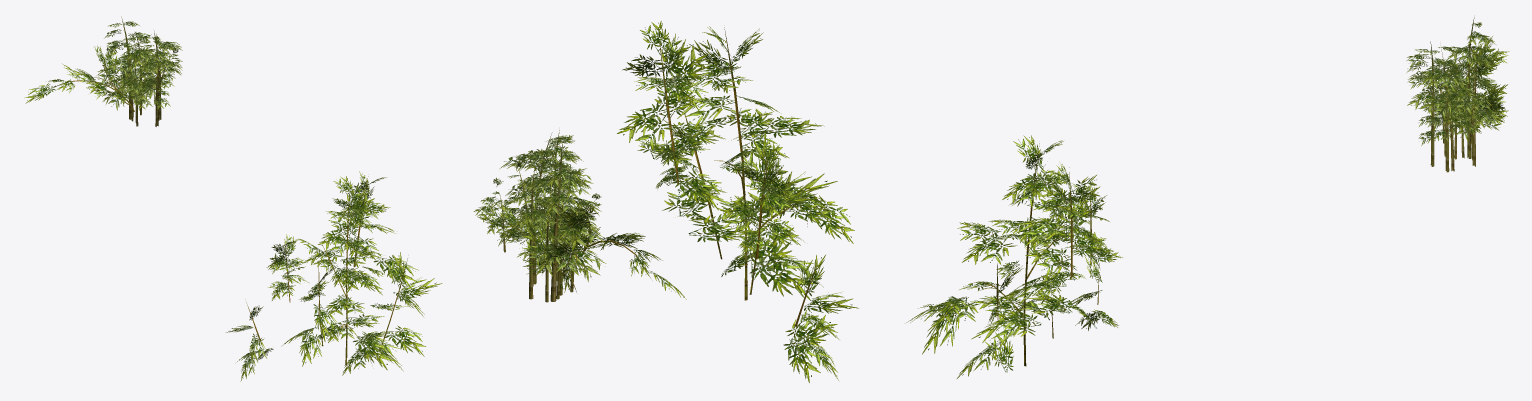
The model's file is S_Tree_Green002_A.FBX.
3 renders of one model, left to right at view 1: azimuth 30°, elevation 25°; view 2: azimuth 150°, elevation 25°; view 3: azimuth 270°, elevation 25°, orthographic. The views are drawn at different scales.
Visible parts, largest first — view 1: S_Tree_Green002_001, S_Tree_Green004_001, S_Tree_Green003_001; view 2: S_Tree_Green002_001, S_Tree_Green004_001, S_Tree_Green003_001; view 3: S_Tree_Green002_001, S_Tree_Green004_001, S_Tree_Green003_001.
Part boxes in pixels (left/top/right/bottom): S_Tree_Green002_001: left=226, top=171, right=442, bottom=381; S_Tree_Green004_001: left=97, top=16, right=182, bottom=126; S_Tree_Green003_001: left=25, top=46, right=155, bottom=111; S_Tree_Green002_001: left=617, top=21, right=858, bottom=382; S_Tree_Green004_001: left=473, top=130, right=606, bottom=302; S_Tree_Green003_001: left=477, top=201, right=686, bottom=299; S_Tree_Green002_001: left=906, top=135, right=1122, bottom=378; S_Tree_Green004_001: left=1406, top=17, right=1504, bottom=172; S_Tree_Green003_001: left=1437, top=36, right=1509, bottom=136.
Size of the model in its own units: 1933 by 3381 by 2015.
